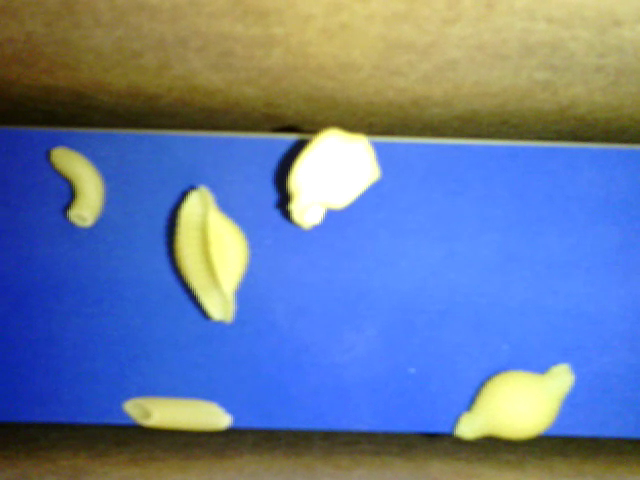elbow: (49, 145, 107, 226)
penne: (121, 396, 234, 433)
shell: (174, 182, 249, 321), (455, 361, 576, 442)
